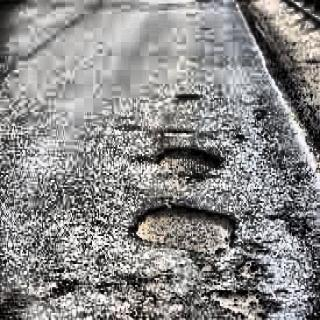pothole: (129, 198, 241, 260), (204, 285, 276, 320), (154, 144, 222, 177), (155, 124, 196, 141), (176, 92, 200, 104)
